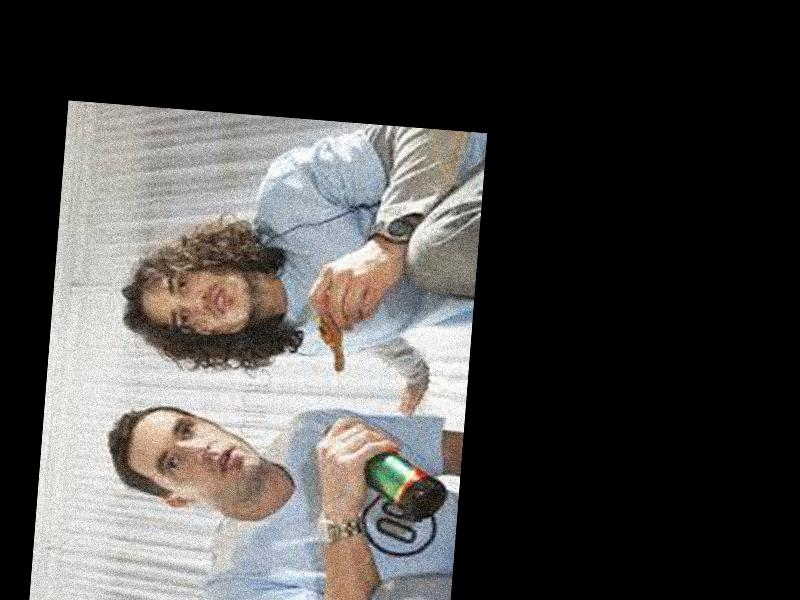Beer: (317, 425, 452, 524)
